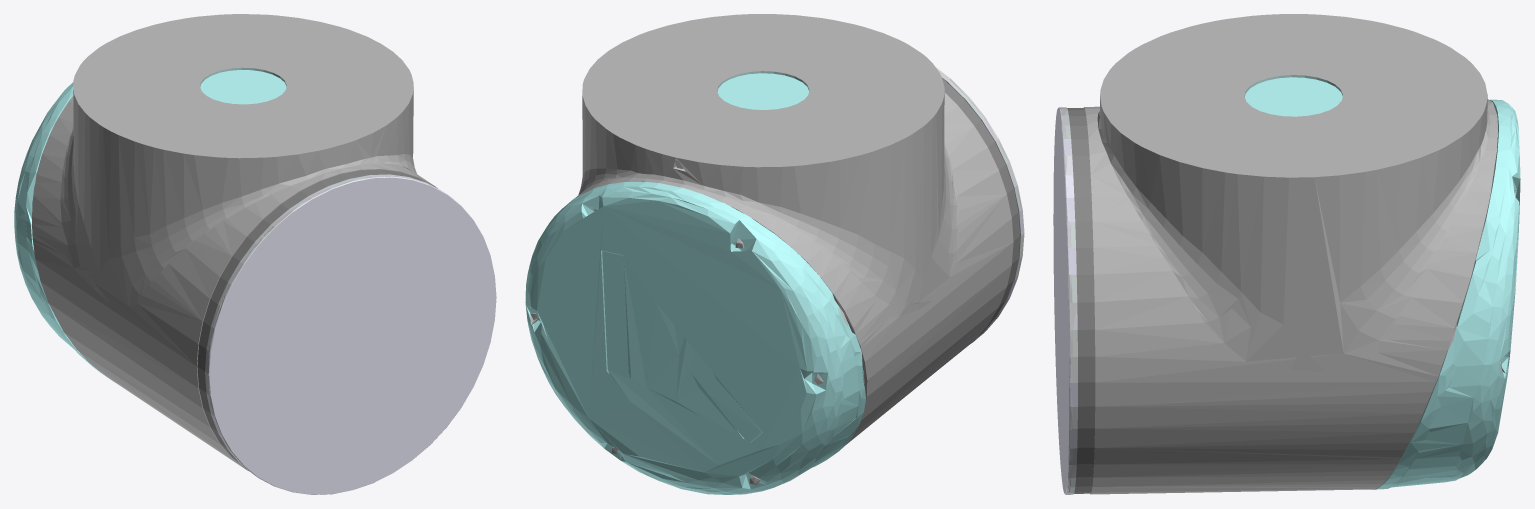
The picture shows the model from 3 angles, left to right: view 1: azimuth 30°, elevation 25°; view 2: azimuth 150°, elevation 25°; view 3: azimuth 270°, elevation 25°; orthographic projection. The views are drawn at different scales.
Parts seen in each view (by area): view 1: UR10Link1; view 2: UR10Link1; view 3: UR10Link1.
Boxes of the visible parts, bbox=[...] form: UR10Link1: bbox=[14, 14, 496, 494]; UR10Link1: bbox=[525, 14, 1024, 494]; UR10Link1: bbox=[1053, 14, 1520, 494].
Bounding box in the file's own units: 0.1559 × 0.1808 × 0.1612.
